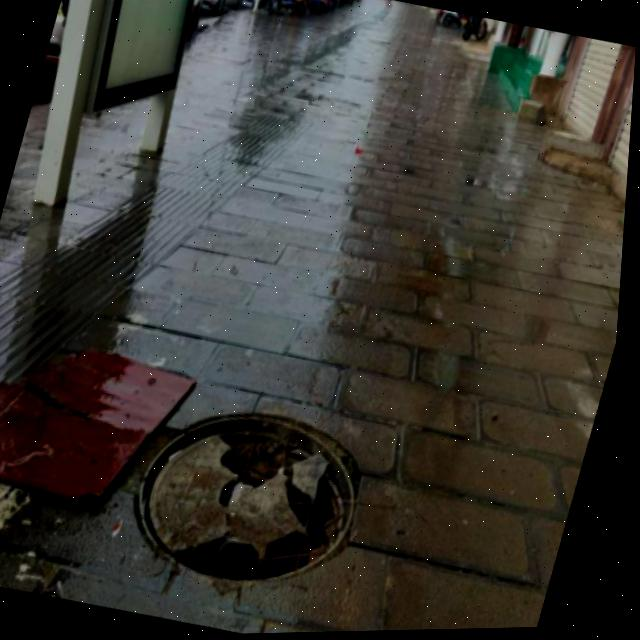manhole: (125, 382, 391, 613)
